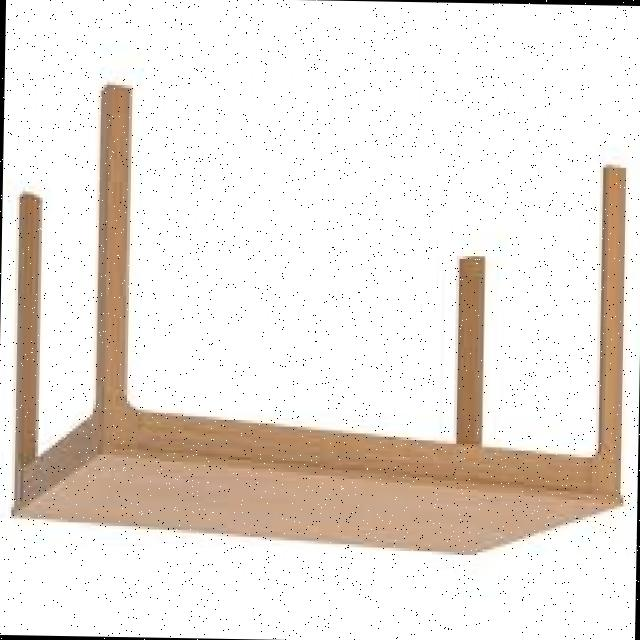Table: (0, 69, 640, 572)
